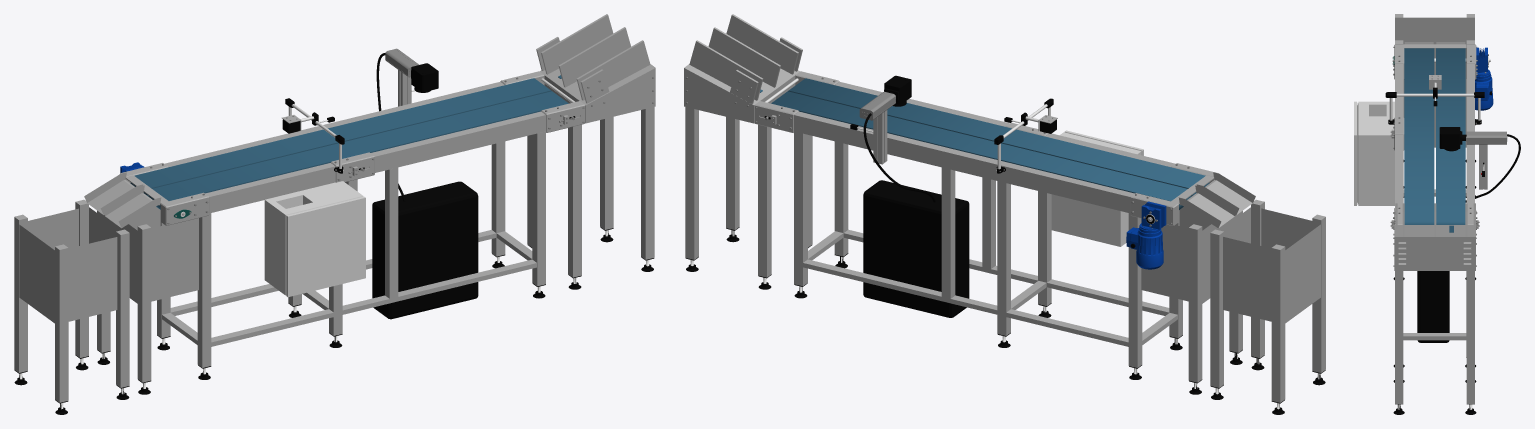
Rendered from we laser sheet feeder.glb.
3 views of the same model, side by side, from view 1: azimuth 30°, elevation 25°; view 2: azimuth 150°, elevation 25°; view 3: azimuth 270°, elevation 25° (orthographic). The views are drawn at different scales.
Visible parts, largest first — view 1: CO2 3D file.005; view 2: CO2 3D file.005; view 3: CO2 3D file.005.
Boxes of the visible parts, x1,y1,x2,y2 form: CO2 3D file.005: (14,14,655,414); CO2 3D file.005: (684,14,1325,414); CO2 3D file.005: (1354,14,1520,414).
Size of the model in its own units: 3.4 by 1.24 by 0.9356.
